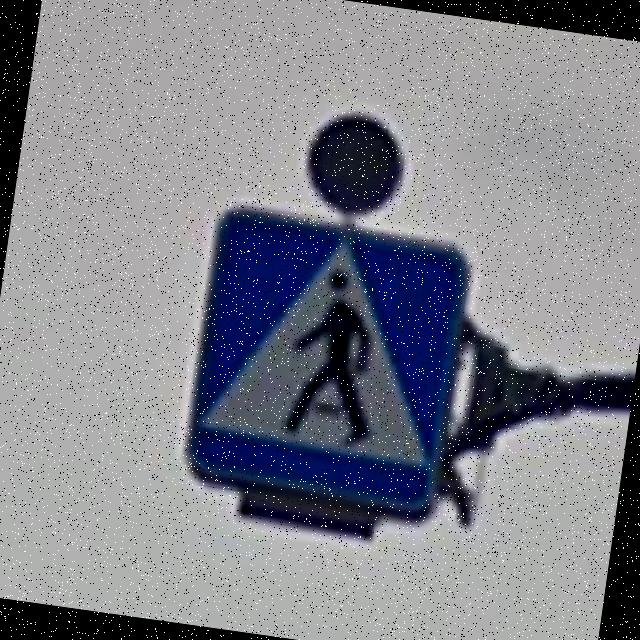Przejscie dla pieszych: (173, 197, 473, 528)
